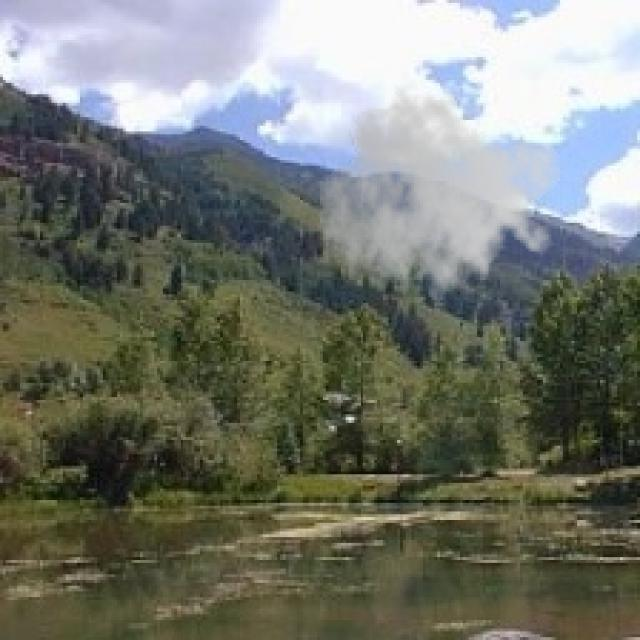Smoke: (317, 80, 563, 317)
